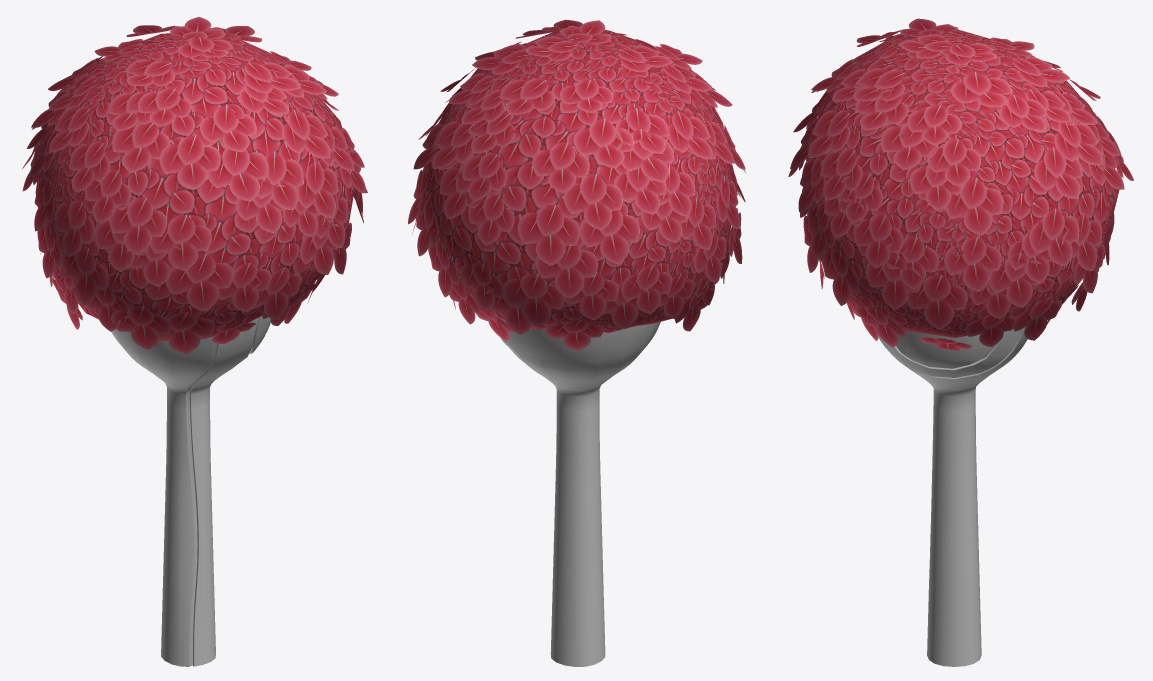
The model's file is SM_Tree1_KN.fbx.
The picture shows the model from 3 angles, left to right: view 1: azimuth 30°, elevation 25°; view 2: azimuth 150°, elevation 25°; view 3: azimuth 270°, elevation 25°; orthographic projection.
Visible parts, largest first — view 1: Leaves, Trunk; view 2: Leaves, Trunk; view 3: Leaves, Trunk.
Part boxes in pixels (bbox=[...]): Leaves: bbox=[22, 17, 367, 353]; Trunk: bbox=[111, 316, 270, 666]; Leaves: bbox=[408, 19, 745, 350]; Trunk: bbox=[493, 314, 660, 666]; Leaves: bbox=[788, 18, 1133, 351]; Trunk: bbox=[878, 327, 1027, 666].
Size of the model in its own units: 377 by 735 by 384.
